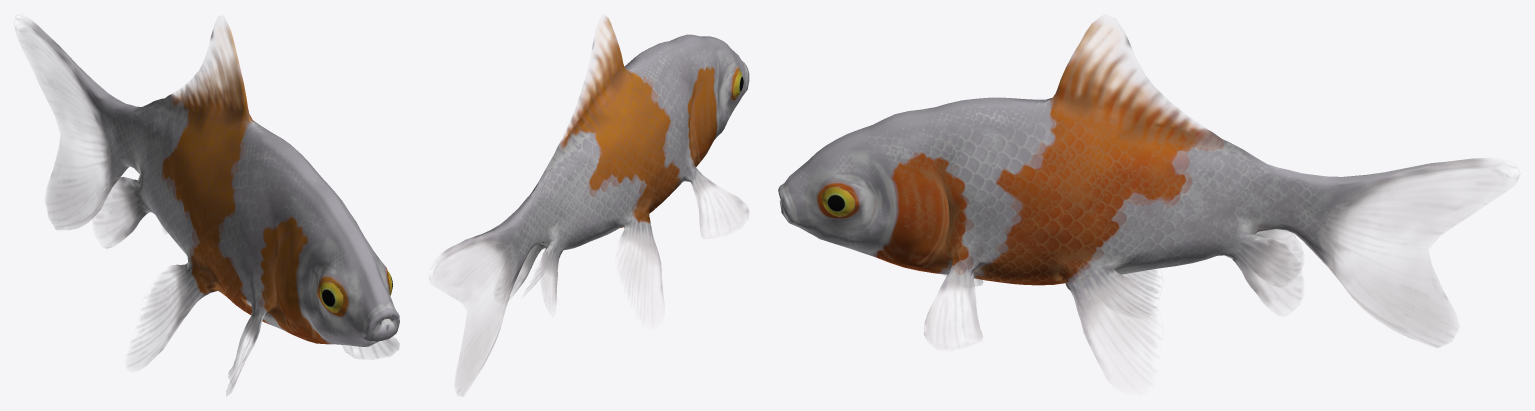
The model's file is goldfish_crucian_carp.glb.
3 views of the same model, side by side, from view 1: azimuth 30°, elevation 25°; view 2: azimuth 150°, elevation 25°; view 3: azimuth 270°, elevation 25° (orthographic). The views are drawn at different scales.
Visible parts, largest first — view 1: g (×7); view 2: g (×7); view 3: g (×8).
Boxes of the visible parts, box(x1,y1,x2,y2) form: g (×7): box(15, 19, 399, 395); g (×7): box(429, 16, 749, 396); g (×8): box(778, 17, 1519, 393).
Size of the model in its own units: 0.532 by 1.02 by 2.
Materials: 1 (1 with a texture image).
